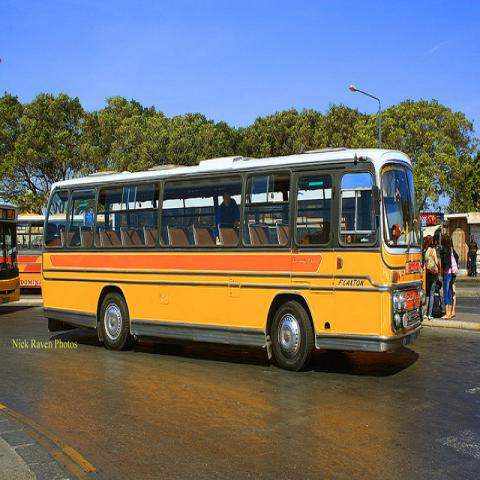bus: (42, 146, 429, 371), (15, 213, 44, 296), (0, 201, 20, 305), (252, 146, 388, 160)
